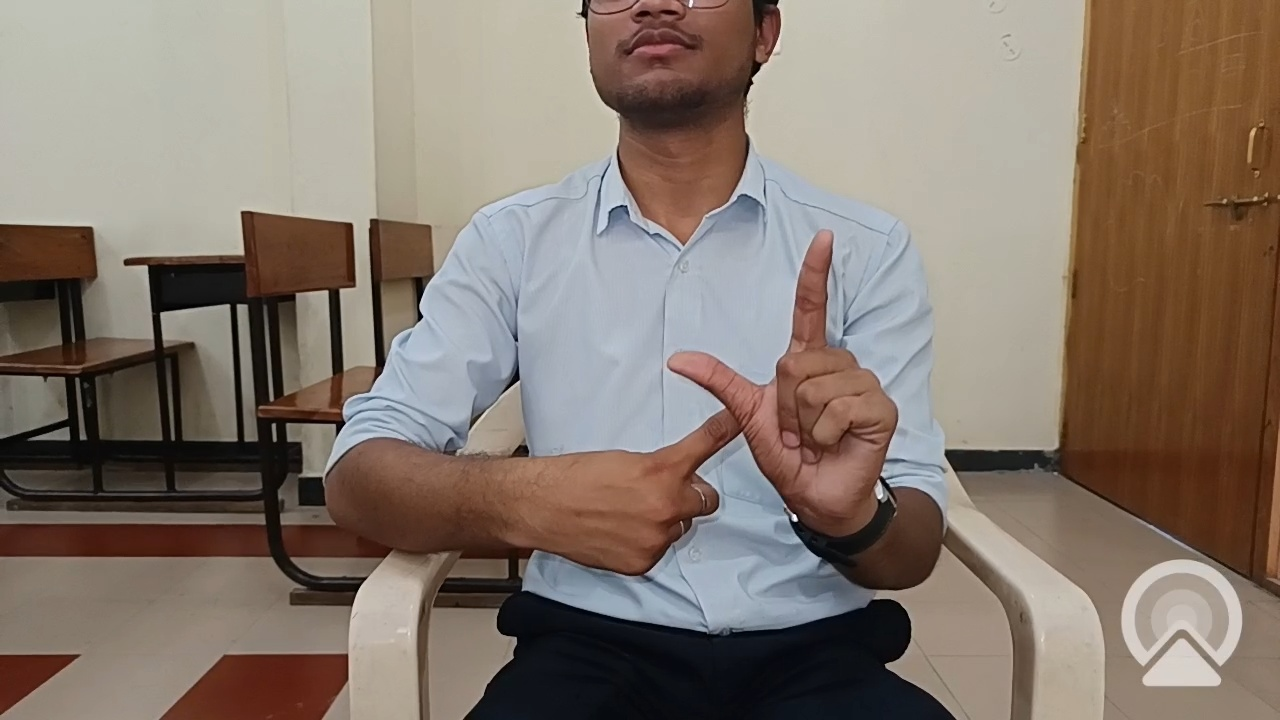Y: (467, 207, 914, 601)
